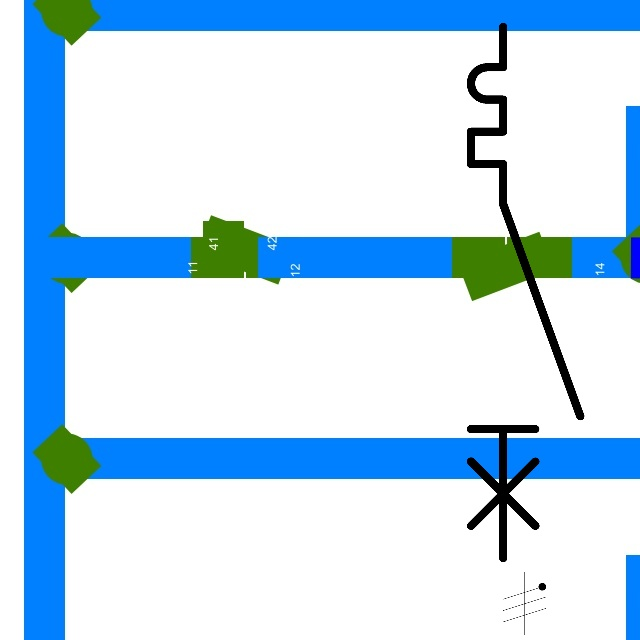interruptor_termomagnetico: (457, 13, 593, 571)
